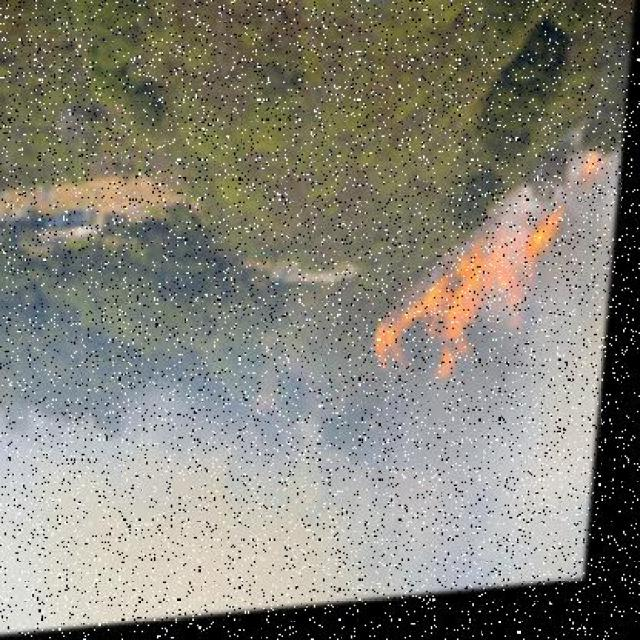fire: (376, 159, 617, 398)
